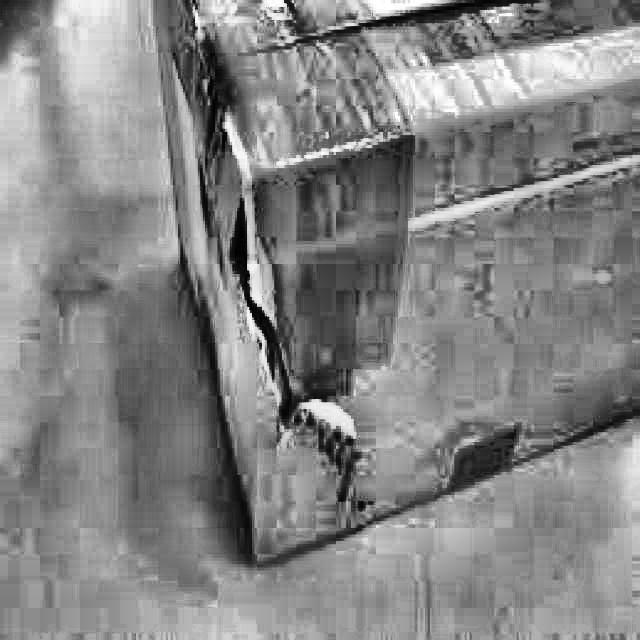box: (149, 0, 639, 572)
hole: (227, 200, 306, 441)
